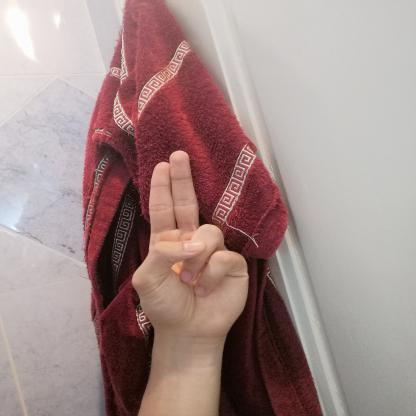TA: (118, 143, 258, 350)
